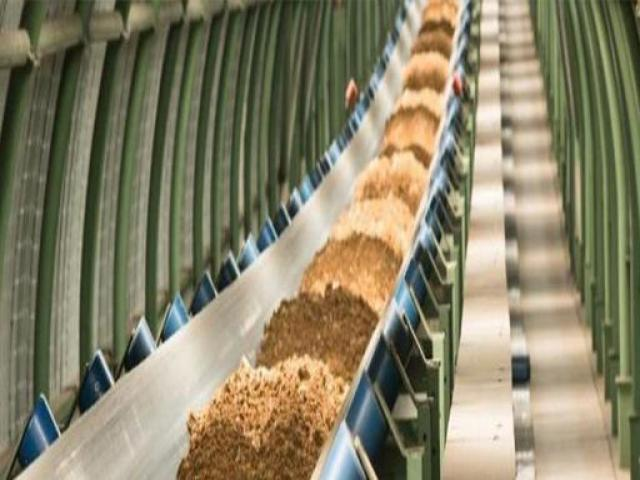conveyor: (0, 0, 484, 479)
